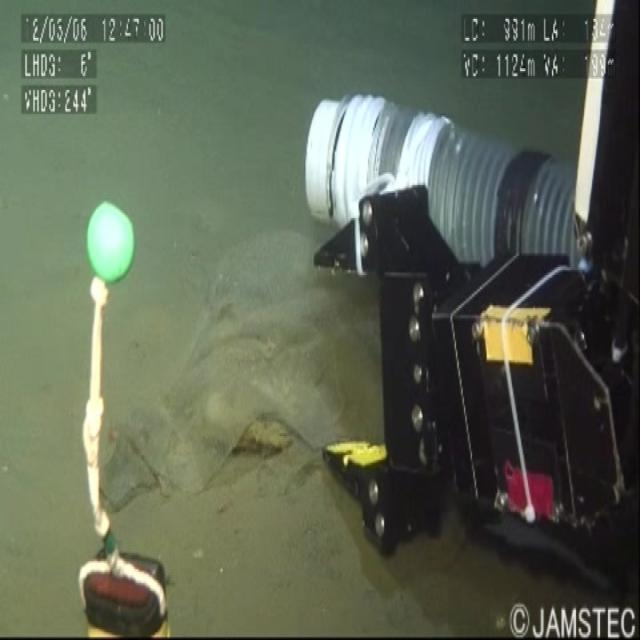Rope: (101, 210, 392, 526)
